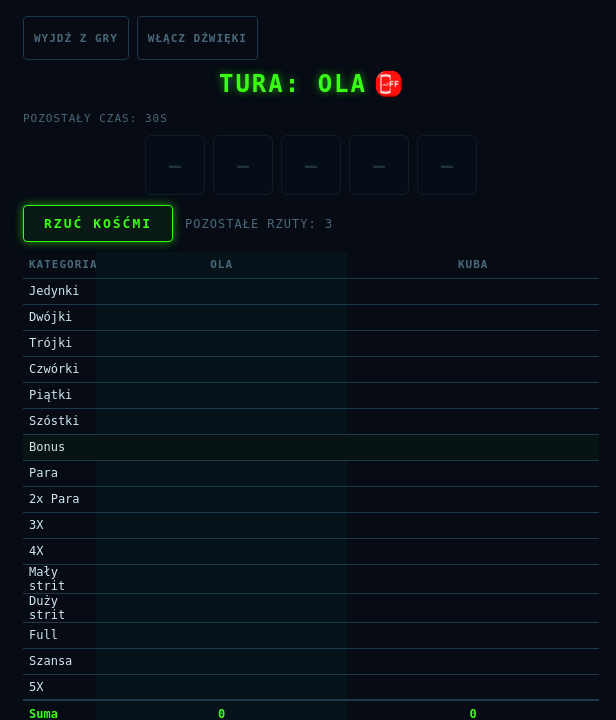
OnlineGameScreen › shows "Włącz dźwięki" and unmutes sounds when clicked, while sounds are muted
This screenshot has width=616, height=720.
Click the button "Włącz dźwięki".
click(197, 38)  # box x1=137 y1=16 x2=258 y2=60
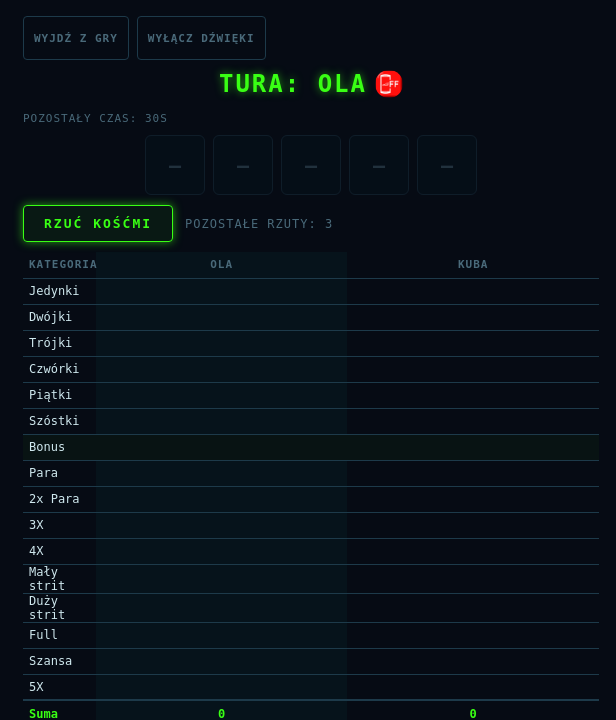
Expected: the button "Wyłącz dźwięki" is shown, x1=137 y1=16 x2=266 y2=60
